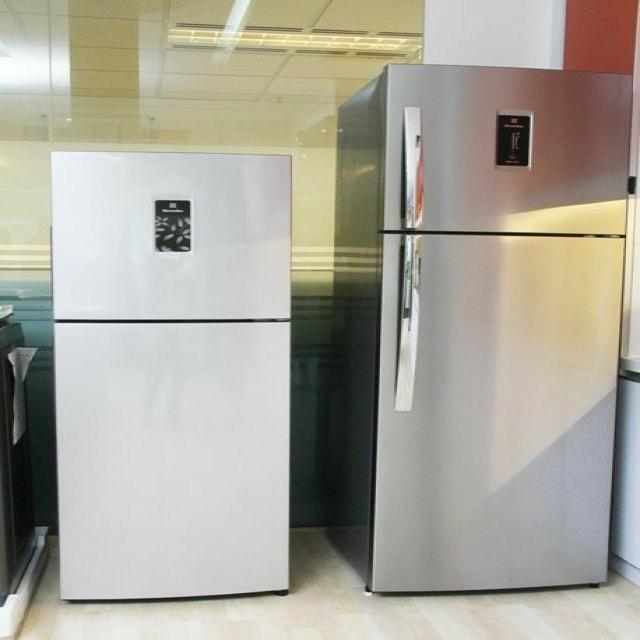obstacle: (328, 62, 634, 595), (49, 149, 292, 601)
